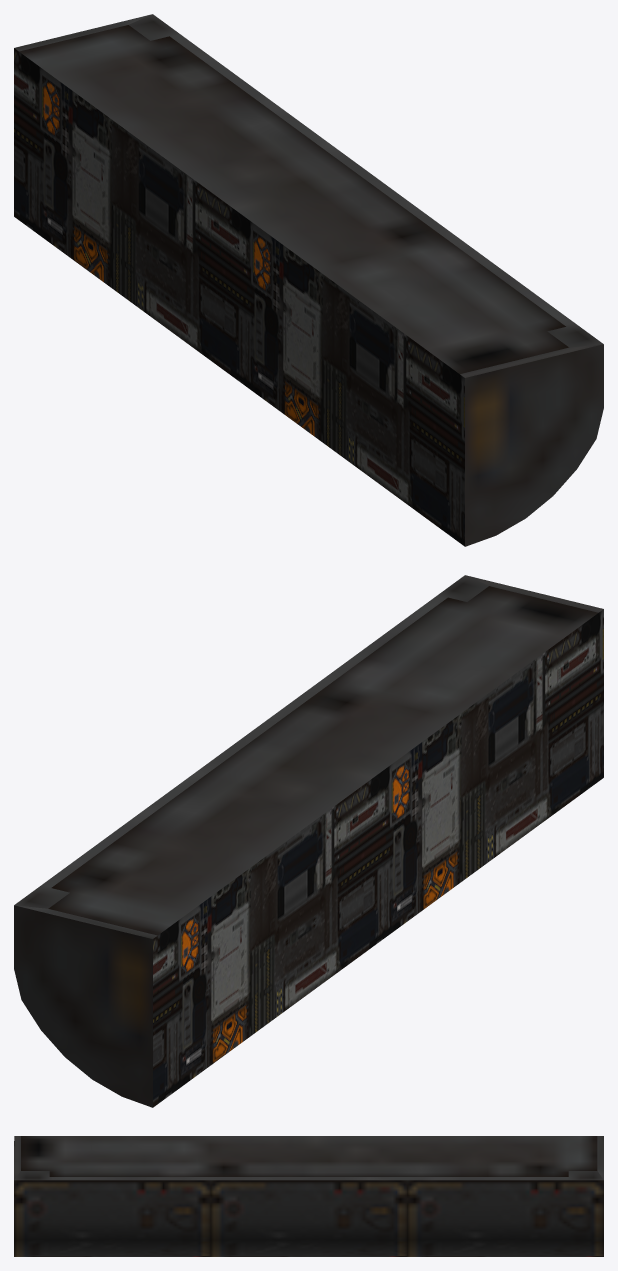
File: vent_long.FBX
3 views of the same model, one above another, from view 1: azimuth 30°, elevation 25°; view 2: azimuth 150°, elevation 25°; view 3: azimuth 270°, elevation 25° (orthographic). The views are drawn at different scales.
Parts seen in each view (by area): view 1: vent_long; view 2: vent_long; view 3: vent_long.
Boxes of the visible parts, bbox=[...] form: vent_long: bbox=[14, 14, 603, 546]; vent_long: bbox=[14, 575, 603, 1107]; vent_long: bbox=[14, 1136, 603, 1256].
Bounding box in the file's own units: 37.14 × 43.12 × 209.
